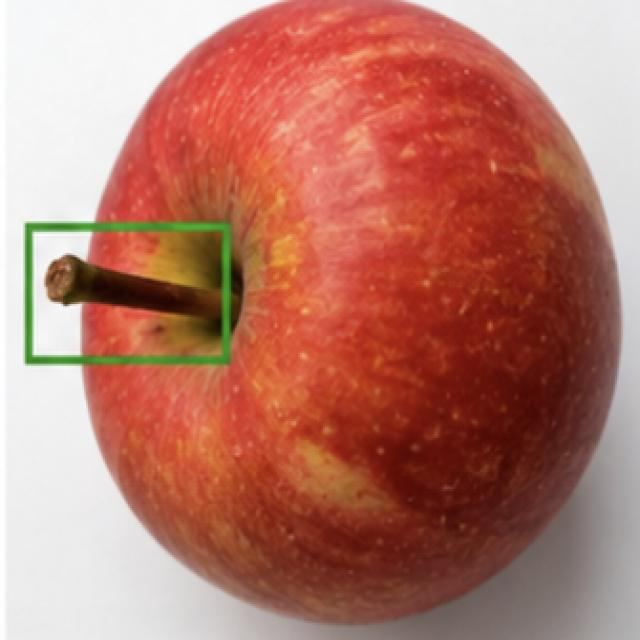Fruit-Stem-Detection: (27, 232, 224, 356), (44, 256, 230, 324)
